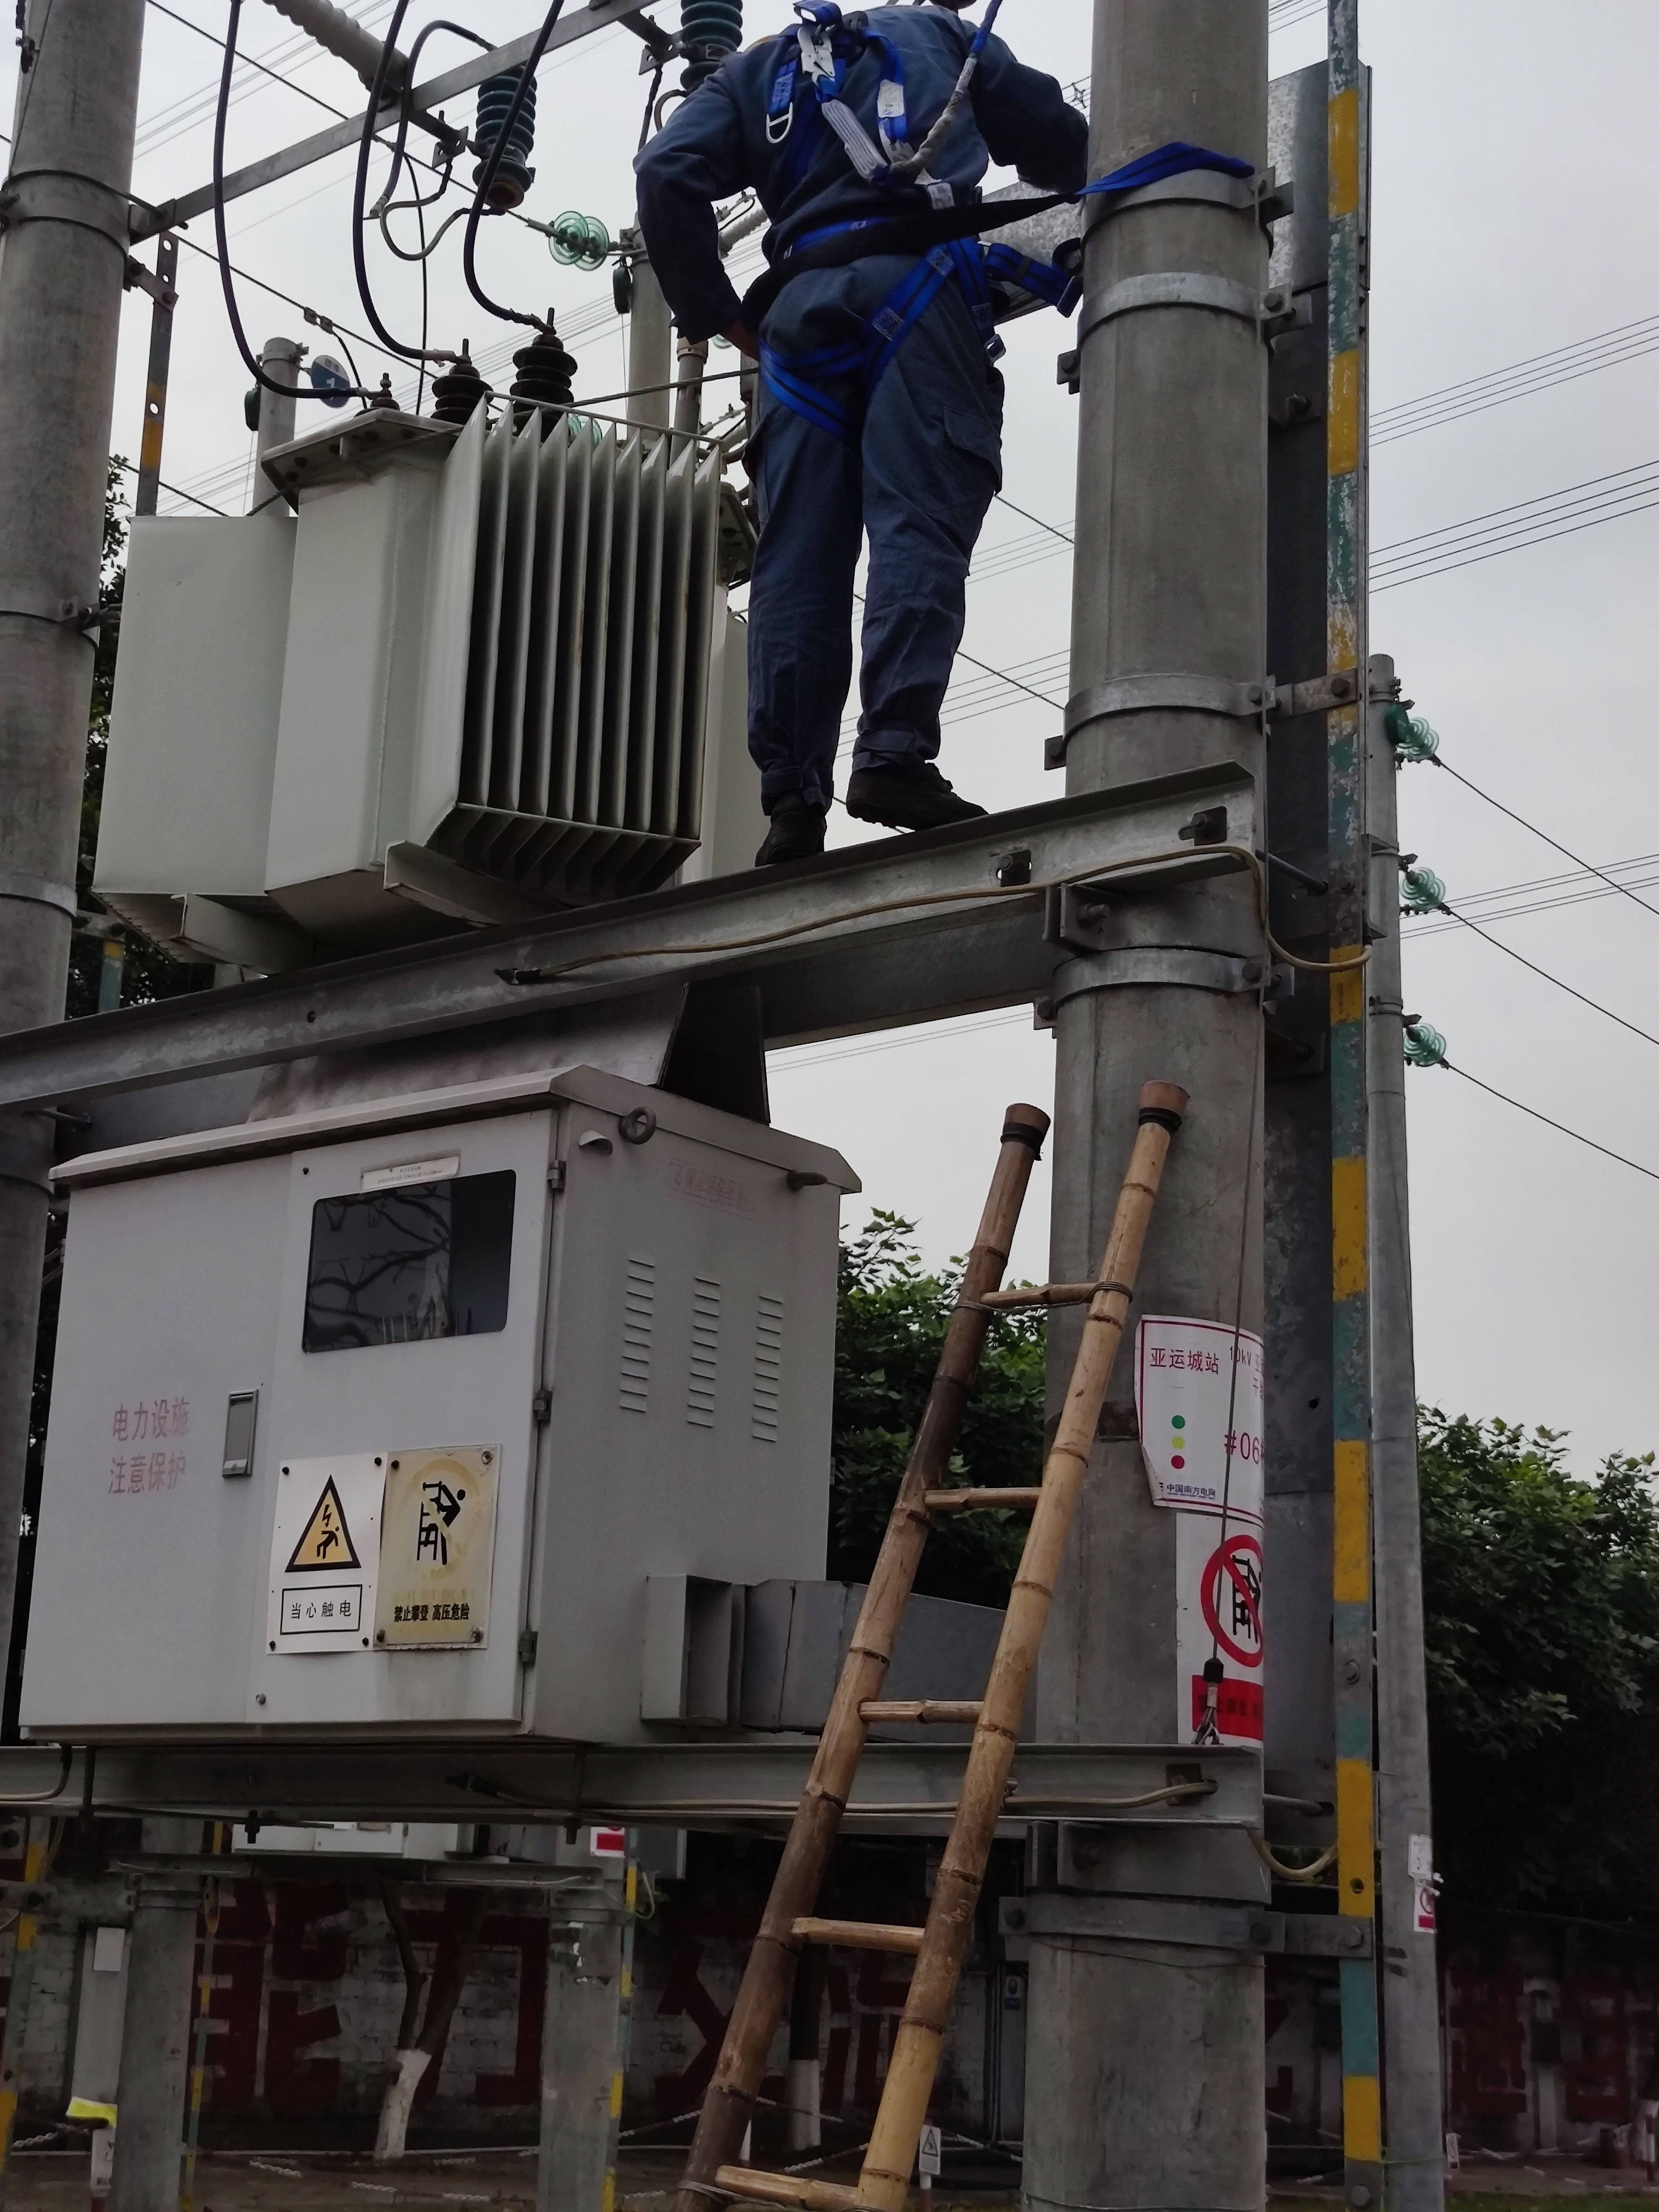downsuit: (728, 300, 1011, 794)
upsuit: (659, 7, 1044, 258)
